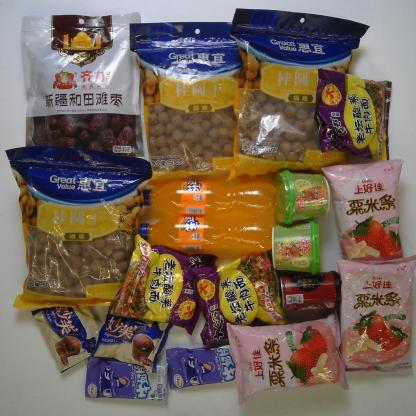Candy: (81, 356, 170, 404), (164, 347, 251, 390)
Canned Food: (279, 270, 340, 312)
Dessert: (29, 300, 105, 376), (90, 316, 173, 371)
Dried Food: (6, 145, 152, 311), (230, 7, 370, 174), (20, 11, 152, 174), (129, 19, 252, 180)
Drink: (139, 178, 275, 218), (137, 216, 274, 253)
Instant Drink: (274, 168, 332, 224), (270, 220, 321, 275)
Instant Noodles: (107, 234, 220, 334), (186, 250, 290, 347), (314, 70, 394, 162)
Puffed Food: (225, 307, 353, 405), (318, 159, 409, 268), (338, 258, 414, 374)
